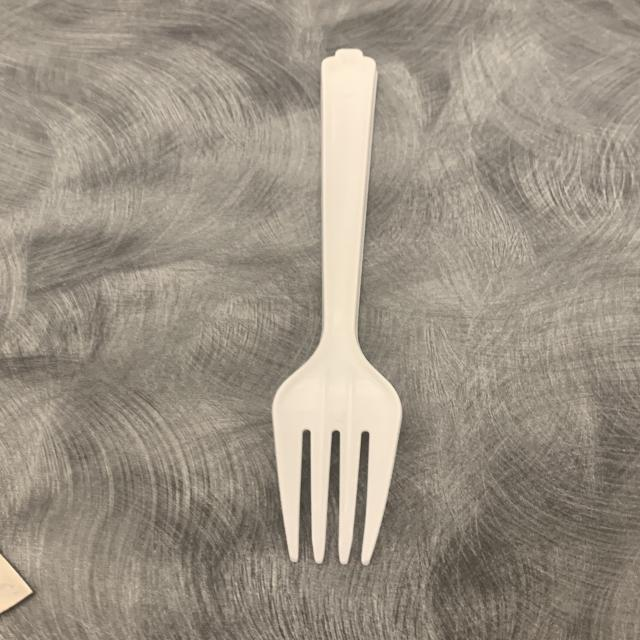fork: (246, 33, 434, 586)
